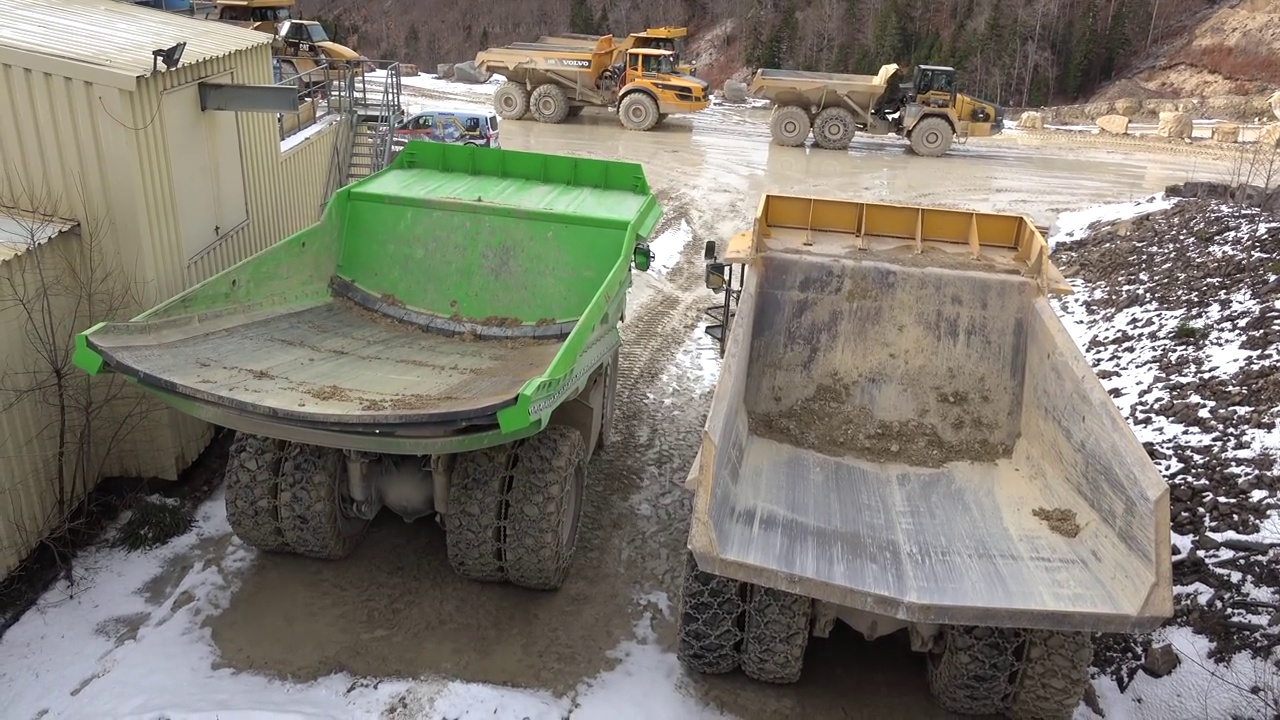car: (407, 101, 502, 153)
dumper: (71, 140, 661, 591), (682, 190, 1178, 719), (749, 62, 1003, 153), (469, 36, 708, 128)
